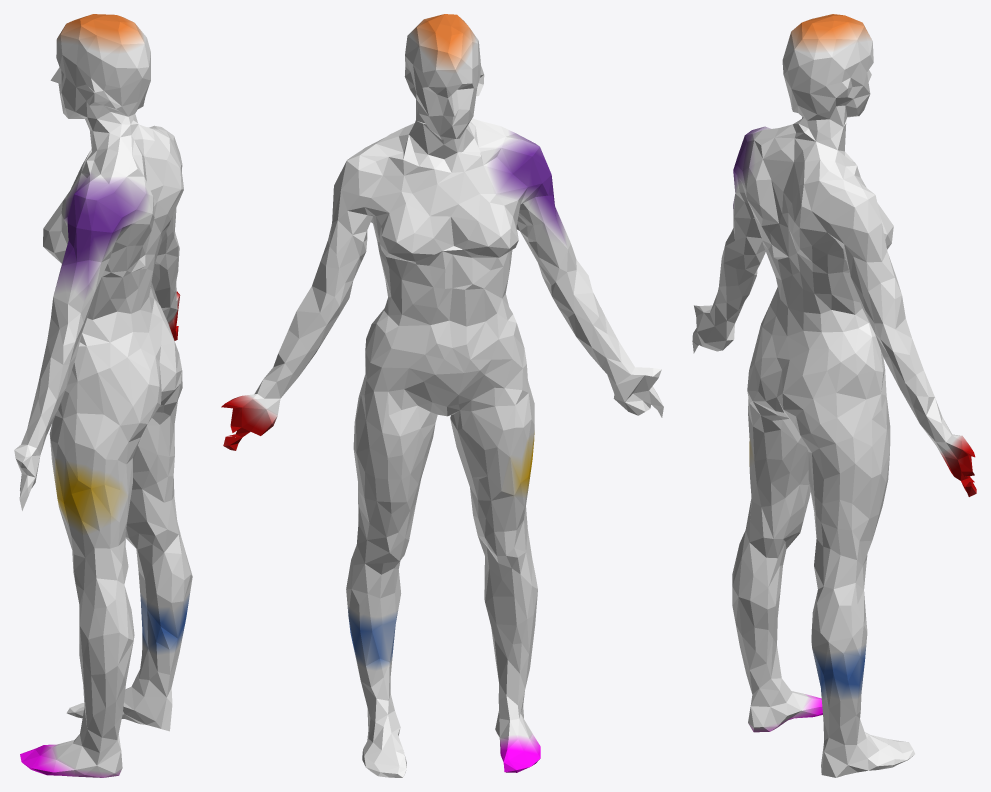
The model's file is target_skirt2.obj.
The picture shows the model from 3 angles, left to right: view 1: azimuth 30°, elevation 25°; view 2: azimuth 150°, elevation 25°; view 3: azimuth 270°, elevation 25°; orthographic projection.
Size of the model in its own units: 1.08 by 2.49 by 0.8852.
Materials: 1 (1 with a texture image).
